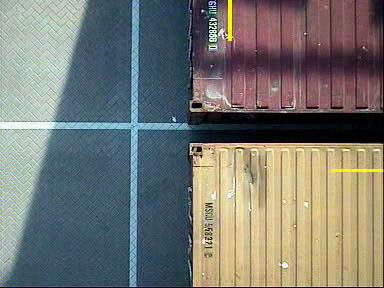groundmarker_2: (96, 180, 165, 230)
